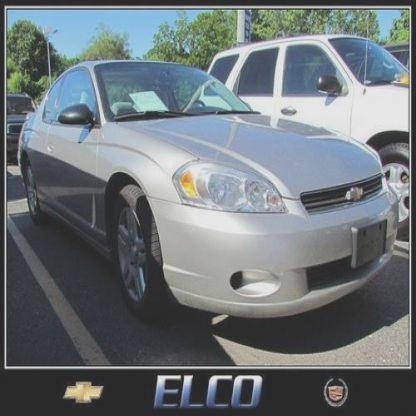Vehicle: (16, 59, 398, 325)
